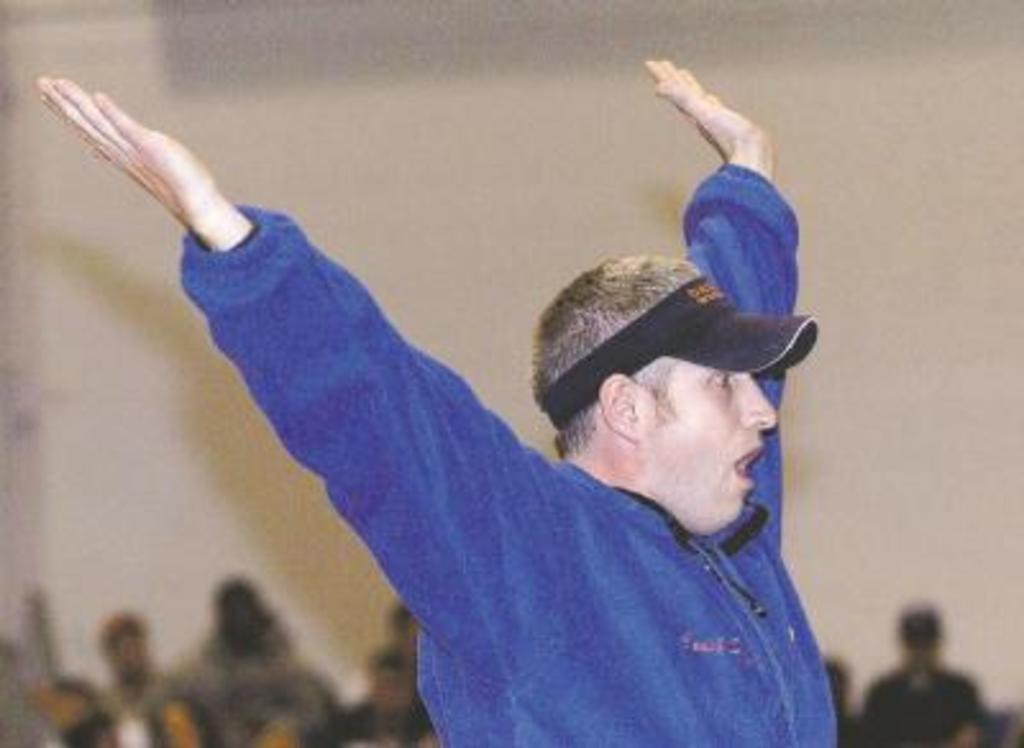Hat: (537, 274, 816, 420)
